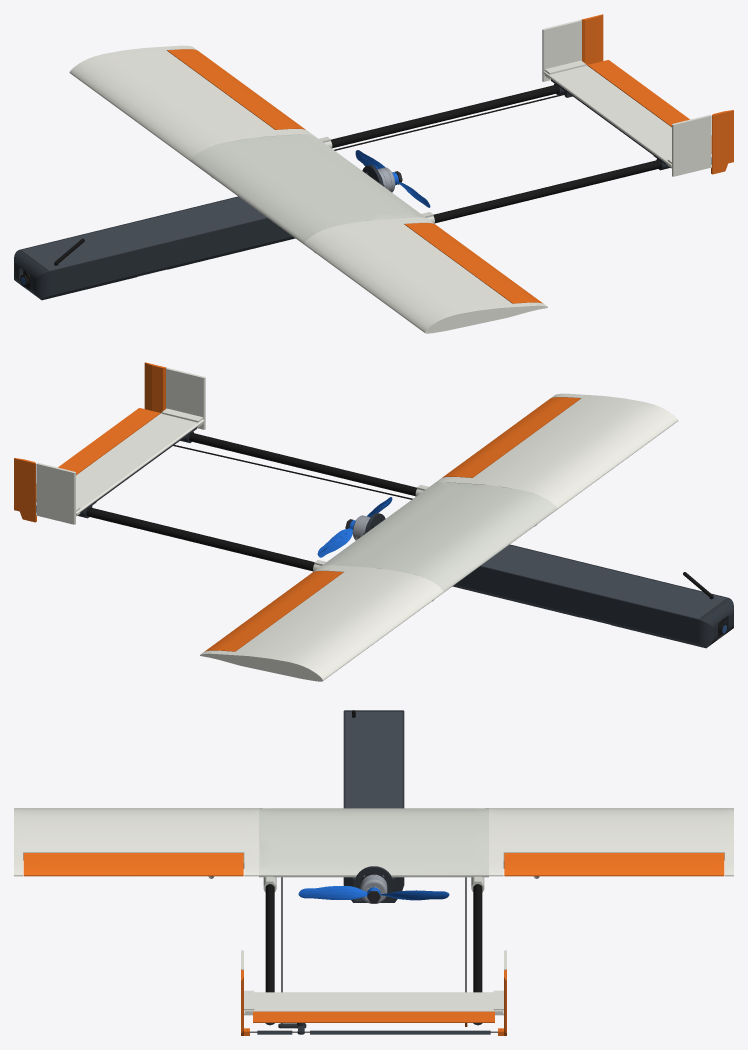
Rendered from airframe.glb.
3 views of the same model, one above another, from view 1: azimuth 30°, elevation 25°; view 2: azimuth 150°, elevation 25°; view 3: azimuth 270°, elevation 25° (orthographic).
Parts seen in each view (by area): view 1: wing_centre, wing_L, wing_R, lid, pod_front, stab, aileron_R, aileron_L, pod_rear, tube_L, tube_R, fin_L (+5 smaller); view 2: wing_centre, wing_R, wing_L, lid, pod_front, stab, aileron_L, aileron_R, pod_rear, tube_R, tube_L, fin_R (+5 smaller); view 3: wing_centre, wing_R, wing_L, lid, aileron_R, aileron_L, stab, elevator, prop, tube_L, tube_R, pod_rear (+2 smaller).
Boxes of the visible parts, box(x1,y1,x2,y2) form: wing_centre: box(190, 134, 434, 253); wing_L: box(304, 217, 547, 333); wing_R: box(69, 45, 312, 161); lid: box(21, 197, 266, 270); pod_front: box(14, 209, 214, 300); stab: box(543, 65, 671, 167); aileron_R: box(167, 49, 305, 129); aileron_L: box(404, 223, 542, 303); pod_rear: box(185, 165, 384, 258); tube_L: box(433, 160, 661, 223); tube_R: box(331, 84, 558, 148); fin_L: box(667, 115, 711, 176); wing_centre: box(313, 482, 557, 601); wing_R: box(200, 565, 443, 681); wing_L: box(435, 393, 678, 509); lid: box(481, 545, 726, 618); pod_front: box(533, 557, 733, 648); stab: box(76, 413, 204, 515); aileron_L: box(442, 397, 580, 477); aileron_R: box(205, 571, 343, 651); pod_rear: box(363, 513, 562, 606); tube_R: box(86, 508, 314, 571); tube_L: box(189, 432, 416, 496); fin_R: box(36, 463, 80, 524); wing_centre: box(259, 808, 488, 892); wing_R: box(489, 808, 733, 876); wing_L: box(14, 808, 258, 876); lid: box(345, 711, 402, 808); aileron_R: box(504, 853, 724, 876); aileron_L: box(23, 853, 243, 876); stab: box(245, 992, 502, 1013); elevator: box(253, 1011, 494, 1026); prop: box(298, 886, 449, 900); tube_L: box(265, 884, 274, 992); tube_R: box(473, 884, 482, 992); pod_rear: box(343, 793, 404, 902).
Bounding box in the file's own units: 0.5085 × 0.0553 × 0.485.
